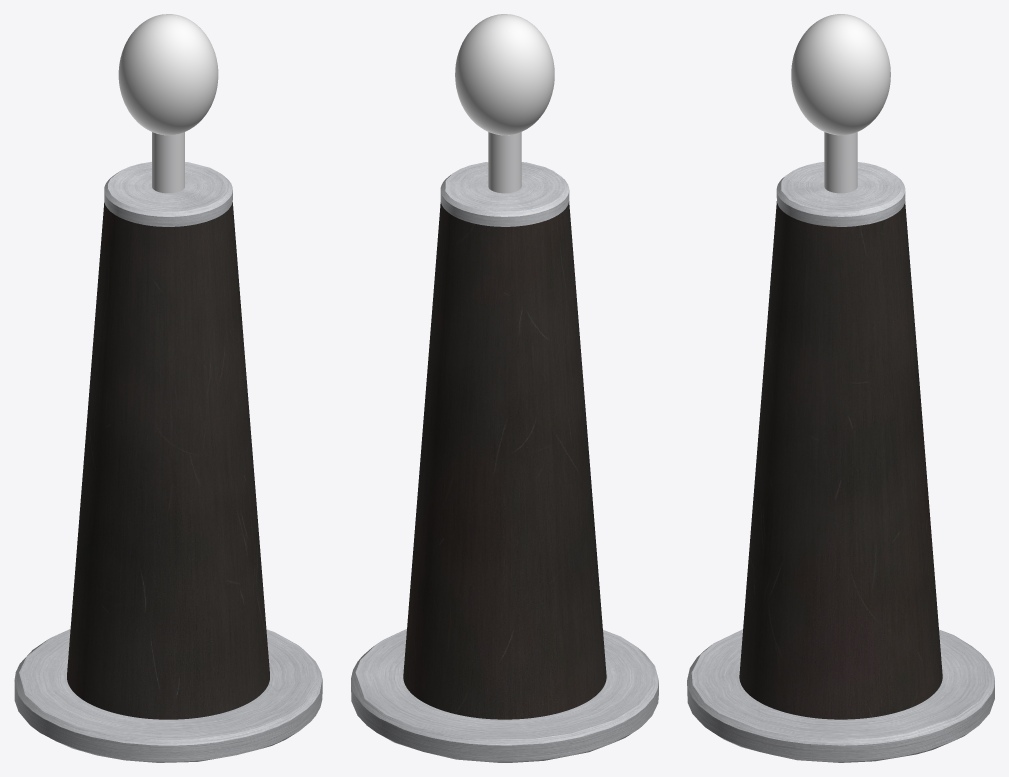
The model's file is queen-black.glb.
3 renders of one model, left to right at view 1: azimuth 30°, elevation 25°; view 2: azimuth 150°, elevation 25°; view 3: azimuth 270°, elevation 25°, orthographic.
Visible parts, largest first — view 1: ferro-orbis_queen_black; view 2: ferro-orbis_queen_black; view 3: ferro-orbis_queen_black.
Part boxes in pixels (x1,y1,x2,y2): ferro-orbis_queen_black: (14,14,322,762); ferro-orbis_queen_black: (351,14,658,762); ferro-orbis_queen_black: (687,14,994,762).
Bounding box in the file's own units: 0.5941 × 1.45 × 0.5941.
5 materials, 3 textured.
